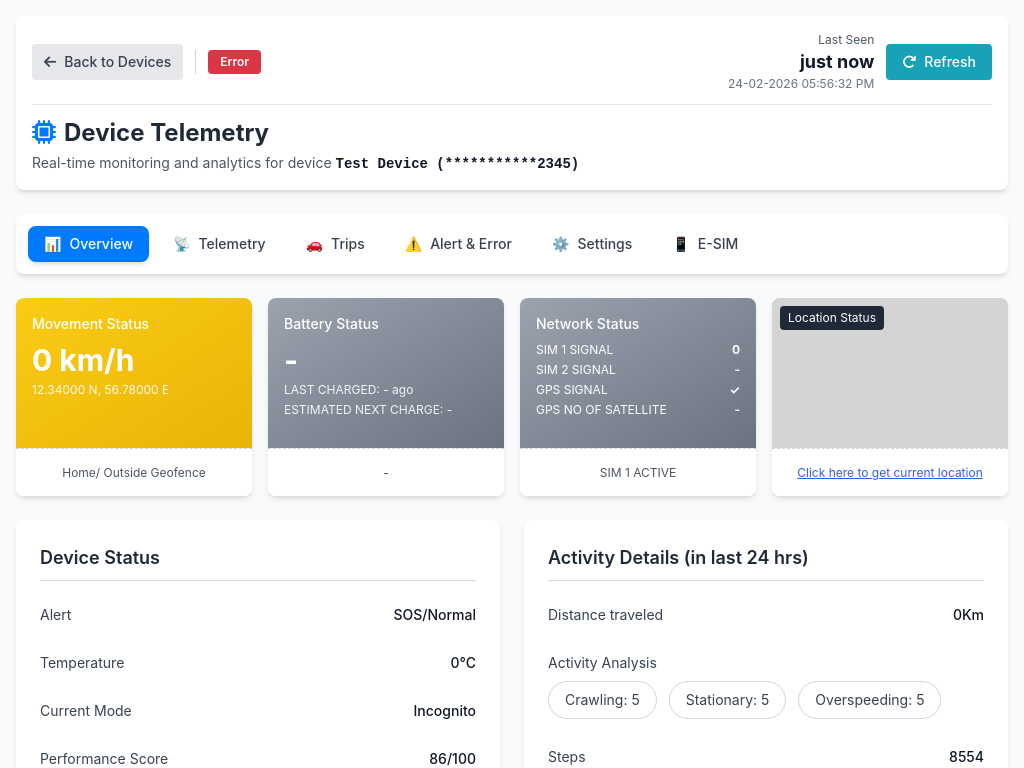
Test case: Preservation Property Tests: Other Settings Tab Features › Property 2.12: Advance Settings section displays all toggles and inputs
The image size is (1024, 768).
Click the button "⚙️ Settings": (592, 244) left=536, top=226, right=648, bottom=262
(page scrolled)
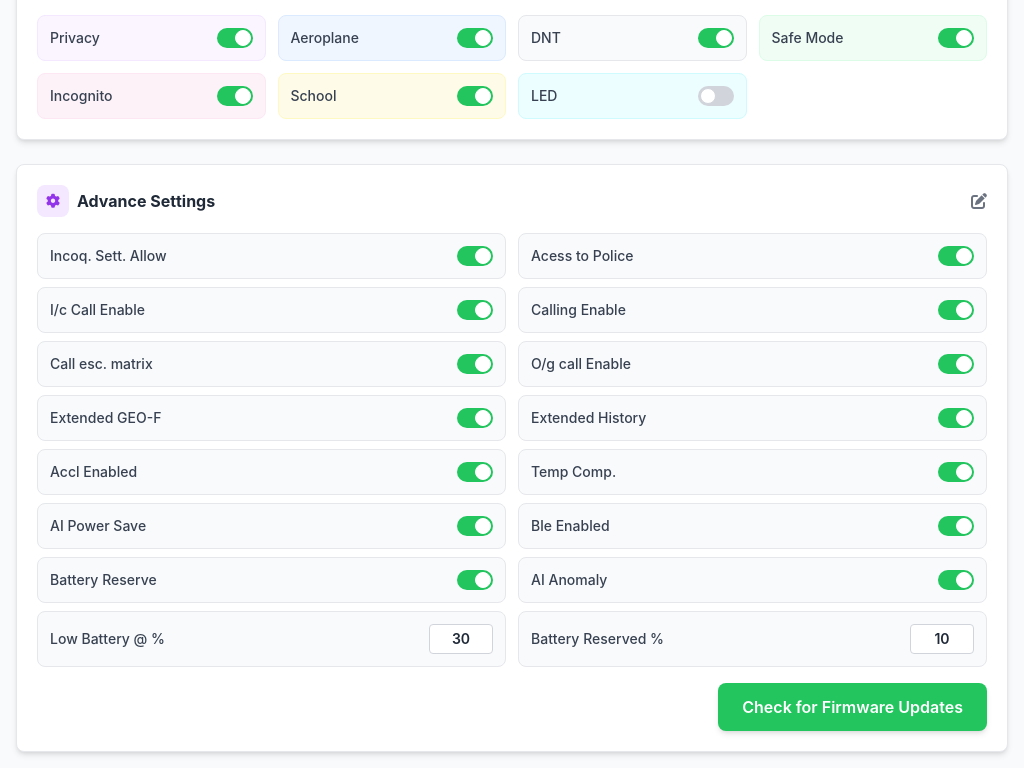
Check: the heading "Advance Settings" is shown, box left=37, top=185, right=215, bottom=217
Check: the text "Incoq. Sett. Allow" is shown, box left=50, top=246, right=167, bottom=266
Check: the text "I/c Call Enable" is shown, box left=50, top=300, right=145, bottom=320
